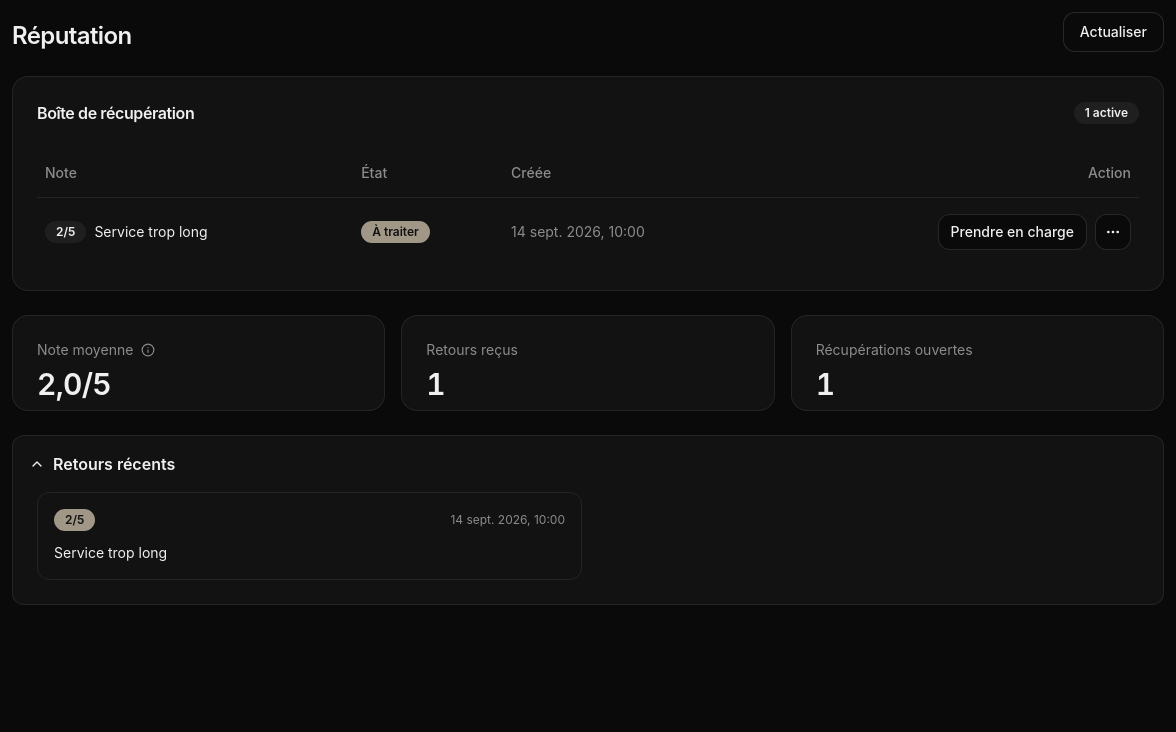
Test: ReputationPage › dit qu’un collègue a déjà traité la demande et actualise la liste
Expected: the heading "Réputation" is shown, [12, 20, 132, 52]
Click the button "Prendre en charge".
click(1012, 232)  # box [938, 214, 1087, 250]
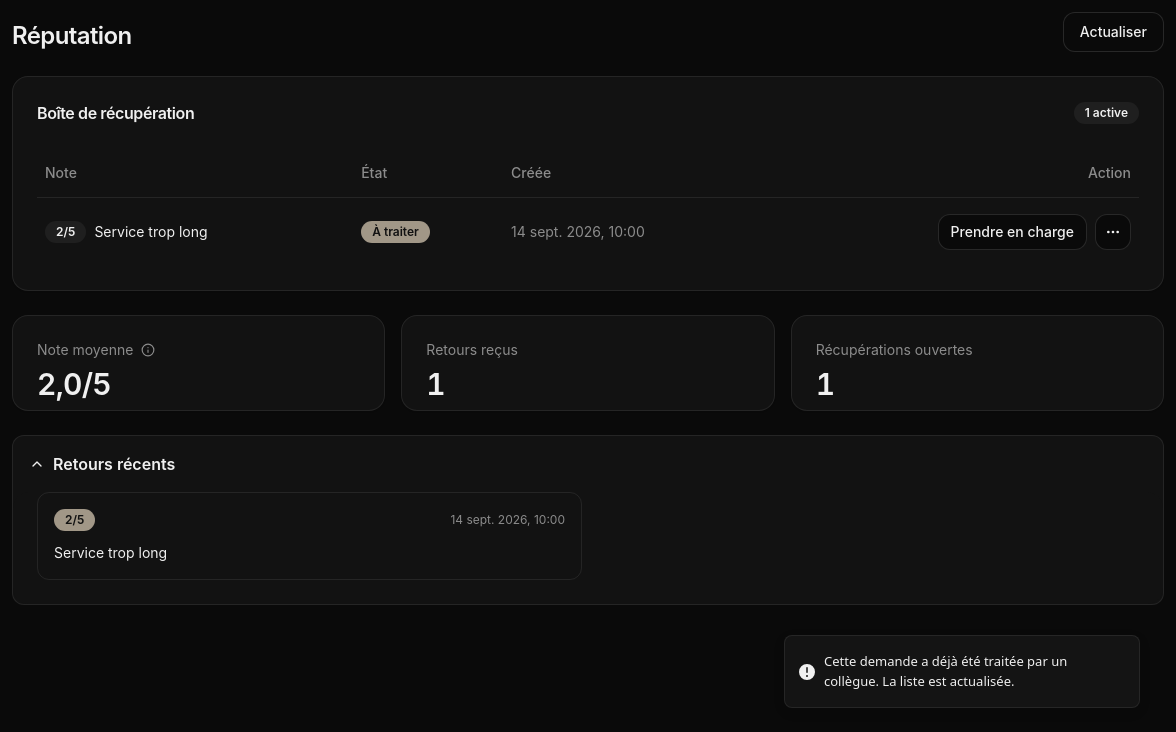
Expected: the text "Cette demande a déjà été traitée par un collègue. La liste est actualisée." is shown, [824, 652, 1067, 690]
